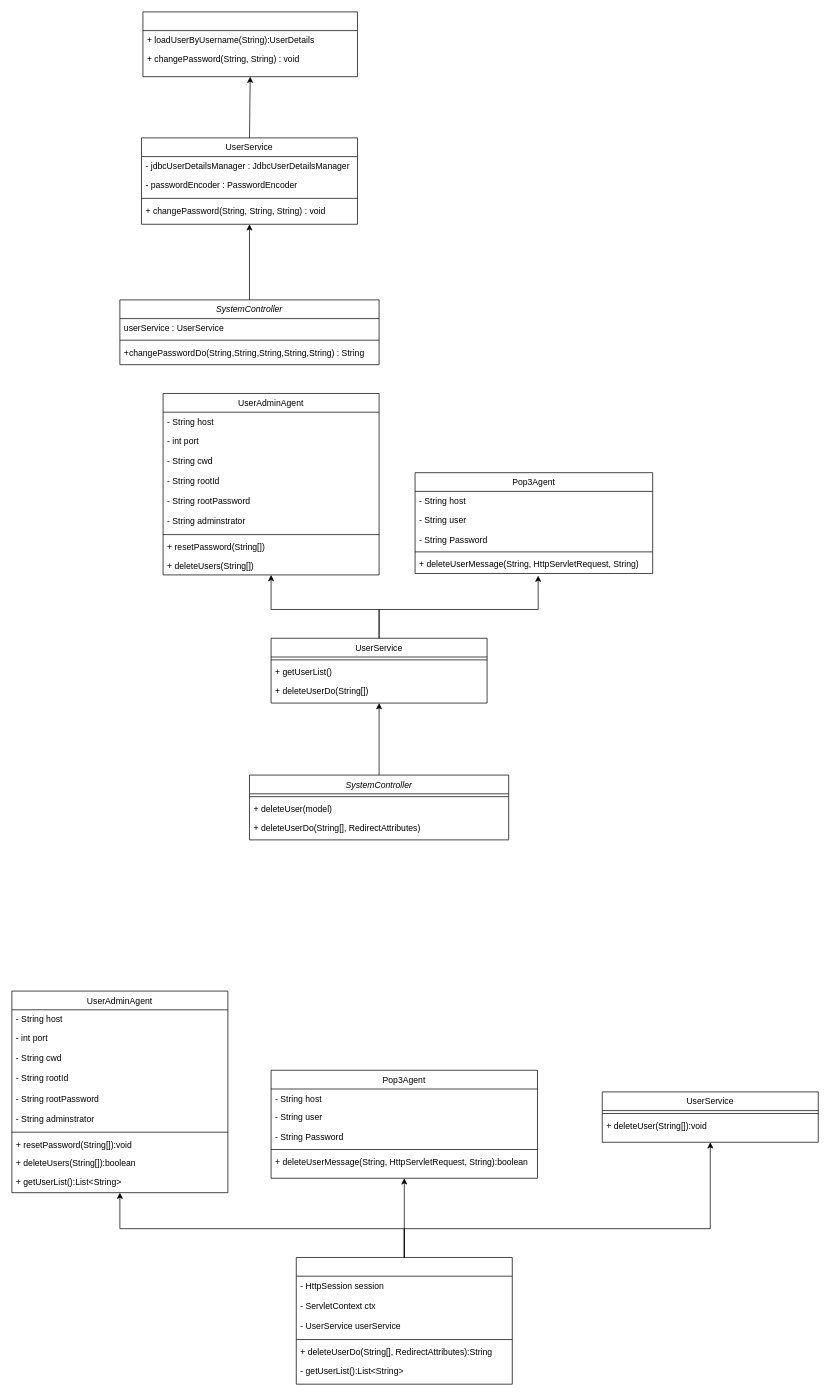
The diagram is 830 pixels wide and 1396 high, and some of its shapes have lost their labels. The shapes that lost their labels are listed below. From the top down, each one's box as (x1, y1, x2, y2) in pixels, then its label:
(142, 11, 357, 77): MyUserDetailManager
(296, 1257, 512, 1384): SystemUsercontroller
